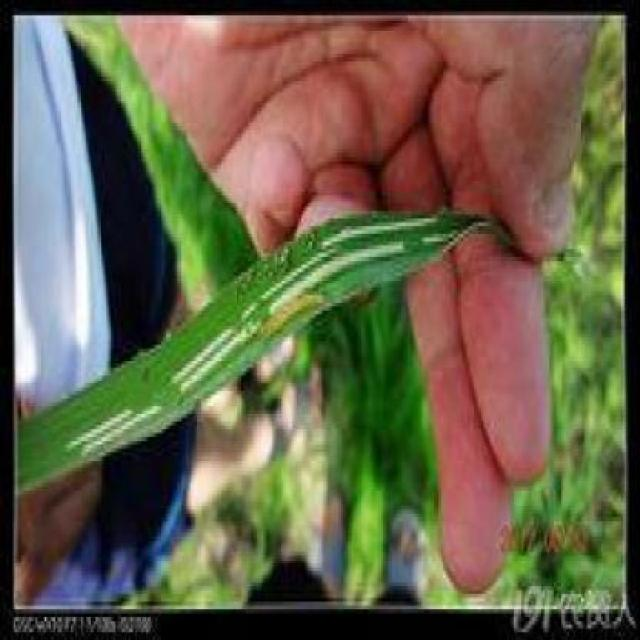leaf-folder: (251, 278, 334, 347)
